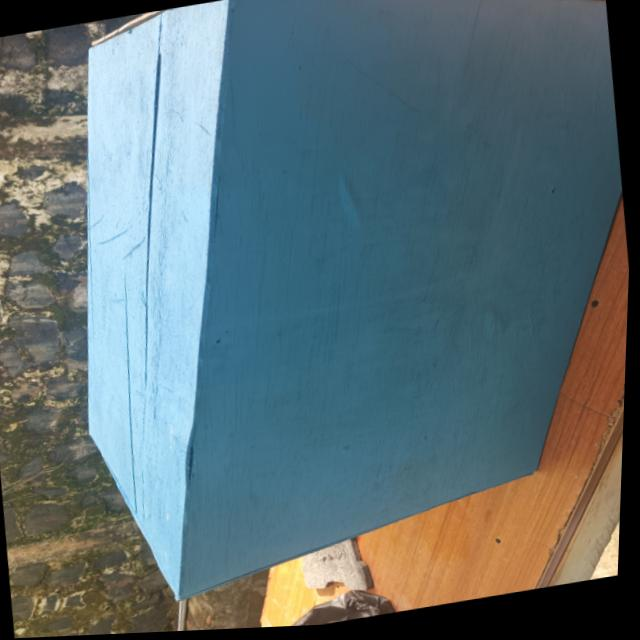blue_box: (5, 0, 640, 639)
